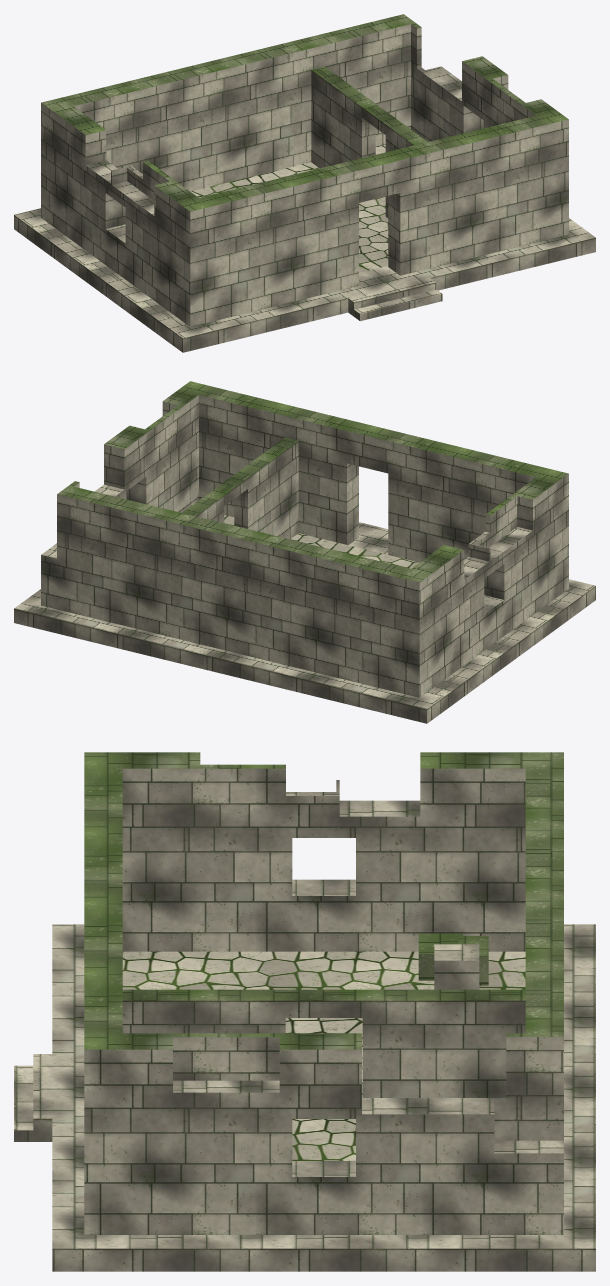
File: ruin-house-b.ruins-v1.lod0.glb
The picture shows the model from 3 angles, top to bottom: view 1: azimuth 30°, elevation 25°; view 2: azimuth 150°, elevation 25°; view 3: azimuth 270°, elevation 25°; orthographic projection. The views are drawn at different scales.
Visible parts, largest first — view 1: ruin-house-b; view 2: ruin-house-b; view 3: ruin-house-b.
Boxes of the visible parts, x1,y1,x2,y2 form: ruin-house-b: (14, 14, 595, 352); ruin-house-b: (14, 381, 595, 723); ruin-house-b: (14, 752, 595, 1271).
Size of the model in its own units: 12 by 3.6 by 9.1.
3 materials, 3 textured.
